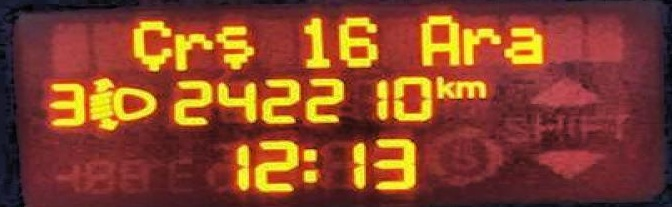0: (390, 74, 430, 121)
1: (300, 14, 330, 71), (230, 140, 250, 194), (348, 135, 367, 191), (372, 74, 388, 124)
2: (252, 138, 297, 194), (170, 76, 212, 125), (259, 75, 300, 124), (302, 75, 343, 122)
3: (370, 134, 419, 190), (47, 79, 85, 126)
4: (214, 77, 255, 122)
6: (335, 14, 377, 69)
X: (128, 18, 172, 74), (419, 12, 459, 70), (214, 20, 259, 69), (500, 22, 545, 65), (459, 25, 500, 65), (172, 28, 210, 71), (299, 144, 320, 185), (453, 76, 487, 100), (435, 73, 454, 99)
